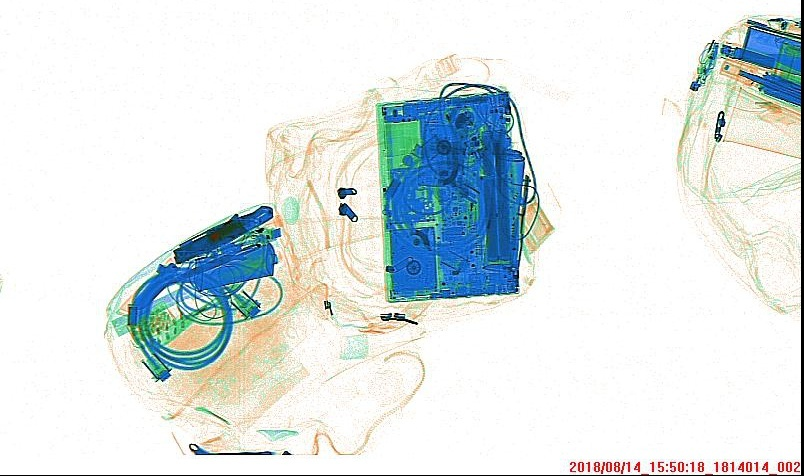knife: (171, 210, 252, 263), (204, 204, 274, 246)
pressure: (481, 147, 525, 272)
scissors: (168, 230, 261, 286)
zippooil: (192, 241, 277, 291), (738, 25, 799, 76)
